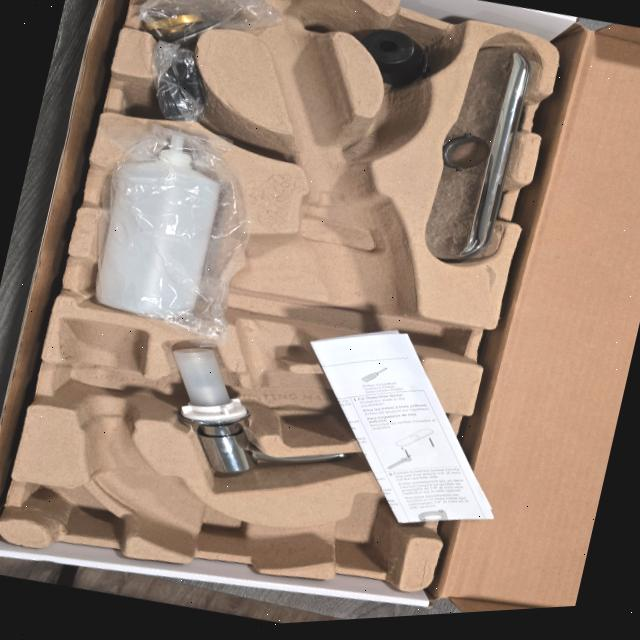1m: (67, 0, 433, 560)
2: (176, 348, 349, 476)
3: (94, 133, 229, 317)
4: (424, 47, 527, 262)
5: (355, 31, 426, 85)
6: (142, 0, 281, 40)
7: (151, 39, 208, 115)
8: (310, 329, 495, 522)
